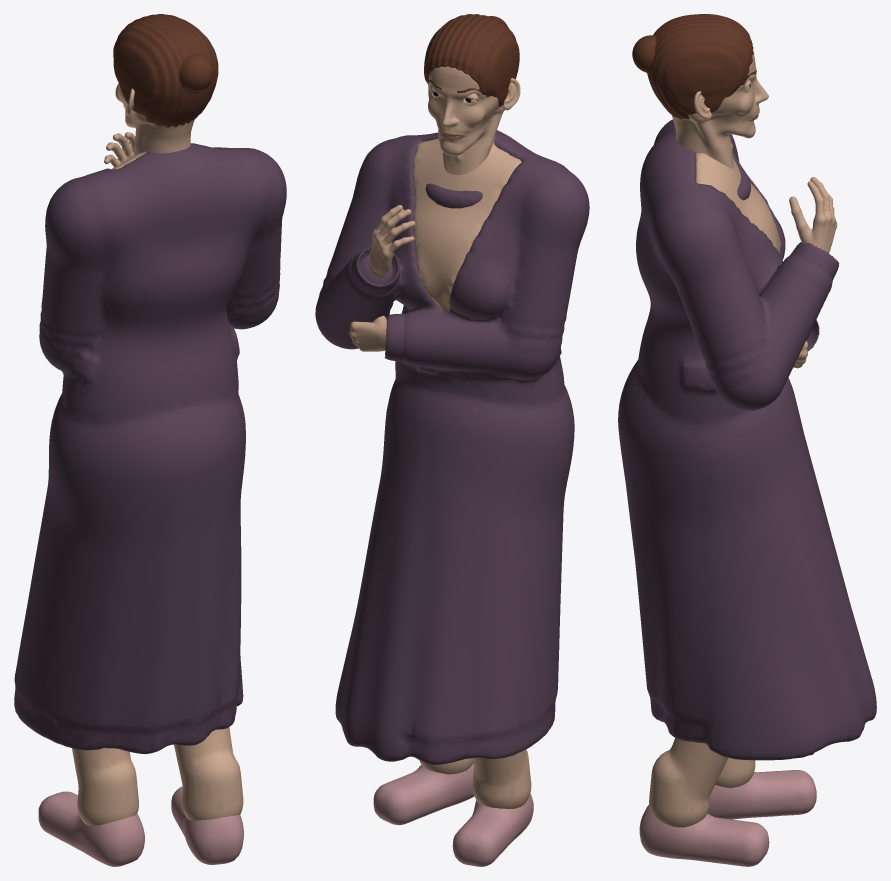
File: lorraine_door.glb
3 renders of one model, left to right at view 1: azimuth 30°, elevation 25°; view 2: azimuth 150°, elevation 25°; view 3: azimuth 270°, elevation 25°, orthographic. The views are drawn at different scales.
Visible parts, largest first — view 1: lorraine_door_body, lorraine_door_head, lorraine_door_hands; view 2: lorraine_door_body, lorraine_door_head, lorraine_door_hands; view 3: lorraine_door_body, lorraine_door_head, lorraine_door_hands.
Boxes of the visible parts, x1,y1,x2,y2 form: lorraine_door_body: [14, 143, 286, 866]; lorraine_door_head: [113, 14, 218, 155]; lorraine_door_hands: [104, 132, 135, 167]; lorraine_door_body: [315, 130, 589, 866]; lorraine_door_head: [424, 14, 520, 175]; lorraine_door_hands: [349, 205, 415, 361]; lorraine_door_body: [618, 119, 876, 866]; lorraine_door_head: [632, 14, 768, 168]; lorraine_door_hands: [789, 177, 839, 368].
Size of the model in its own units: 0.4913 by 1.57 by 0.4494.
